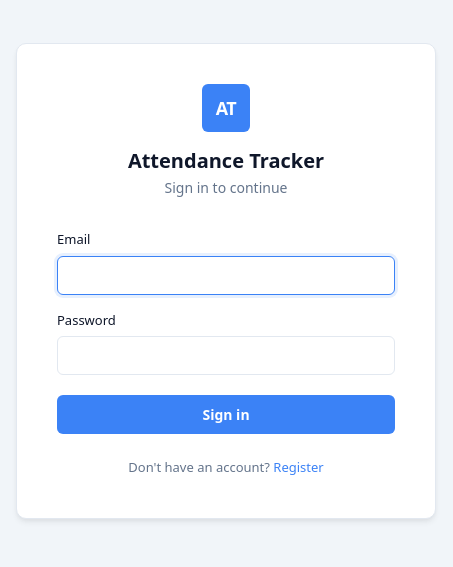
it: LoginPage › shows error message when login fails
Type "bad@example.com" into the field labelled "Email" at (226,275), box [57,256,395,295]
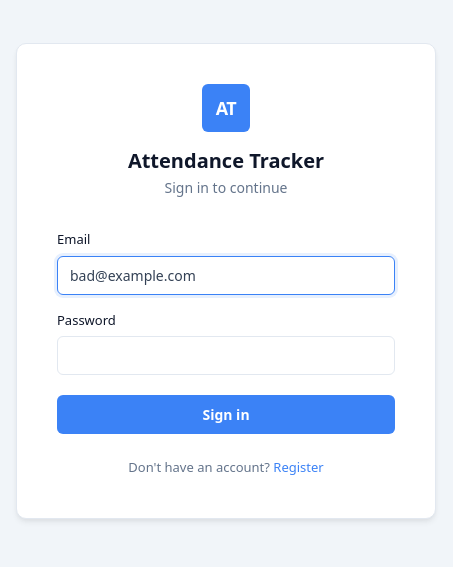
Type "wrongpassword" into the password field labelled "Password" at (226,356), box [57,336,395,375]
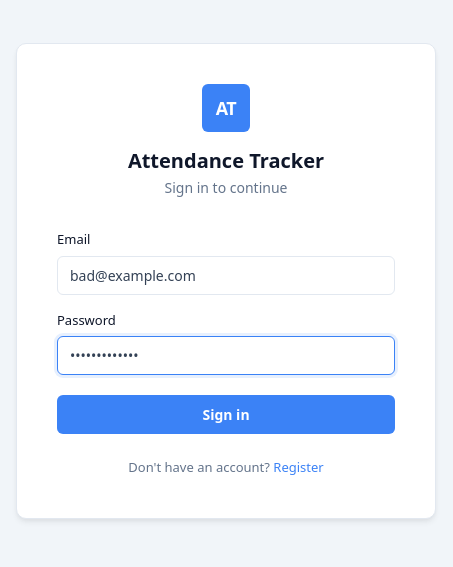
Click the button "Sign in" at (226,415), box [57,395,395,434]
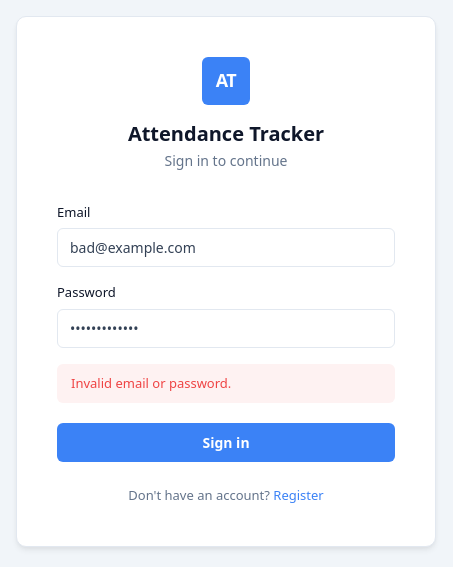
Check: the text "Invalid email or password." is shown, box [57,364,395,403]
